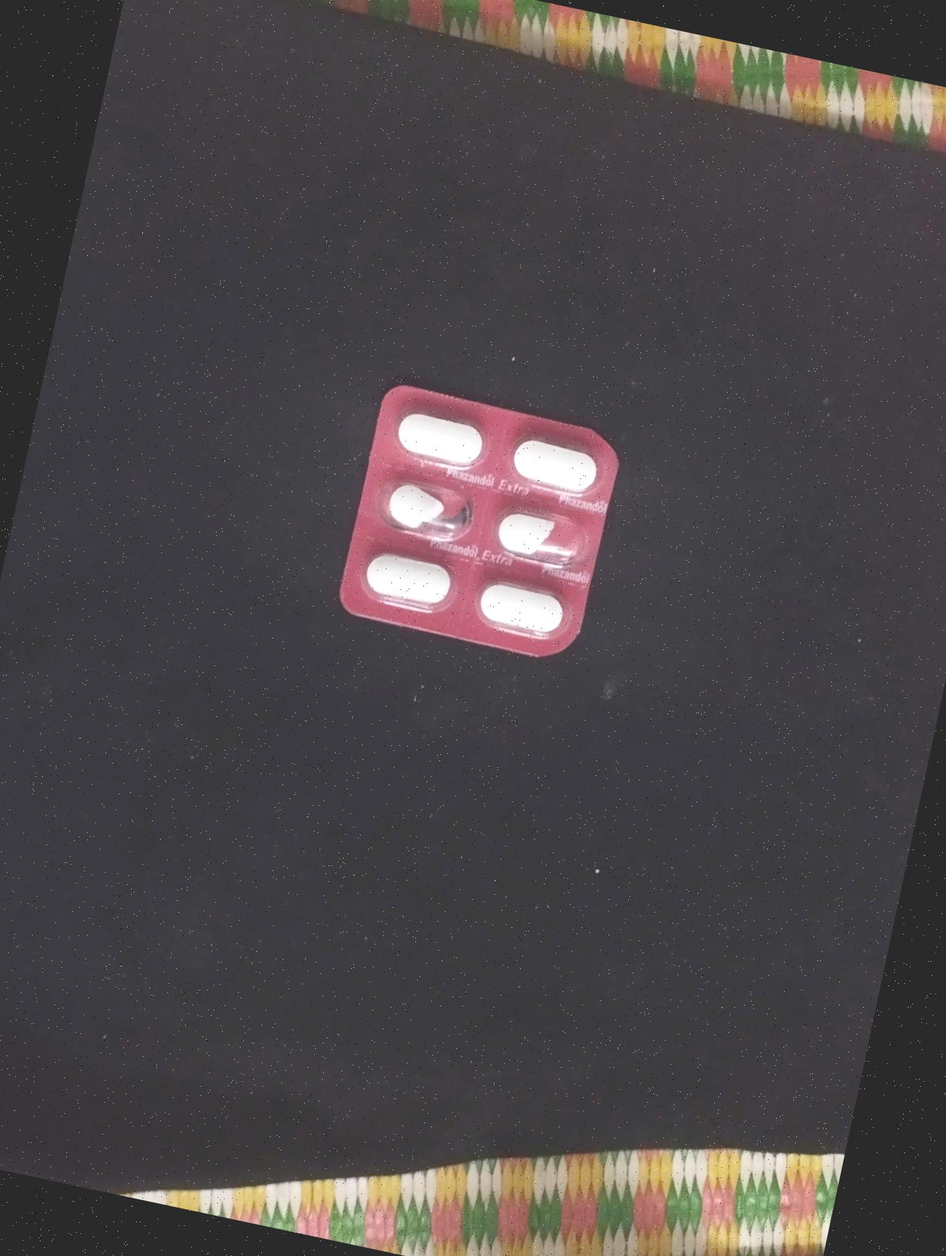Full: (502, 426, 609, 504), (468, 565, 572, 641), (384, 401, 491, 472), (359, 542, 456, 616)
Partial: (482, 500, 598, 578), (375, 473, 471, 551)
